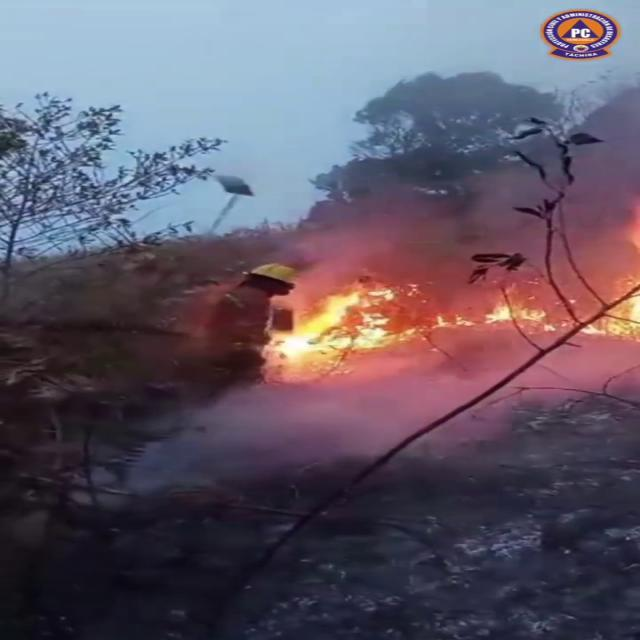Fire: (255, 258, 639, 378)
Smoke: (282, 48, 640, 272), (117, 358, 627, 482)
